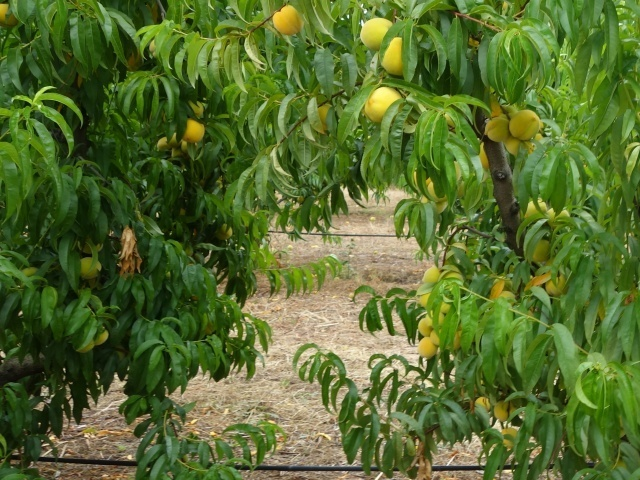peach: (356, 15, 398, 55), (365, 85, 405, 125), (376, 36, 411, 79), (267, 2, 304, 41), (505, 107, 542, 142), (308, 101, 336, 137), (524, 237, 556, 268), (482, 114, 513, 145), (540, 272, 569, 303), (178, 117, 208, 146), (488, 396, 516, 425), (75, 255, 105, 281), (505, 131, 531, 161), (545, 203, 573, 230), (413, 336, 441, 363), (495, 424, 521, 450), (418, 264, 443, 289), (428, 324, 449, 352), (413, 313, 437, 337), (89, 325, 112, 350), (423, 308, 447, 331), (73, 335, 97, 357), (472, 393, 495, 415), (414, 288, 435, 310), (215, 220, 235, 242)
